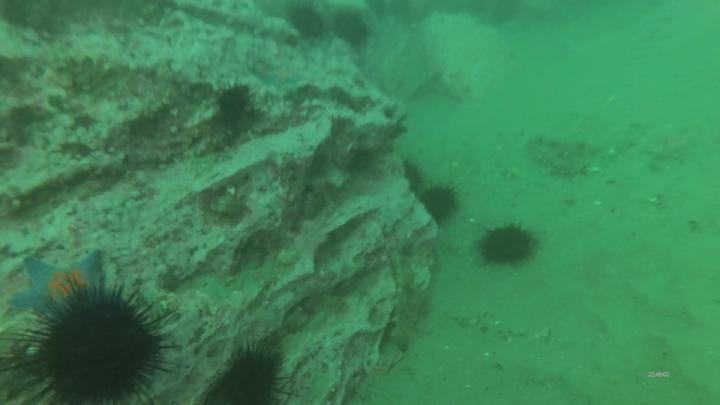echinus: (1, 278, 176, 405), (211, 343, 288, 405), (472, 220, 543, 271), (212, 79, 257, 126), (286, 1, 330, 44), (329, 7, 372, 51), (418, 183, 463, 225), (399, 157, 430, 197)
holothurian: (531, 129, 608, 160), (534, 141, 591, 180)
starfish: (8, 248, 115, 326)
